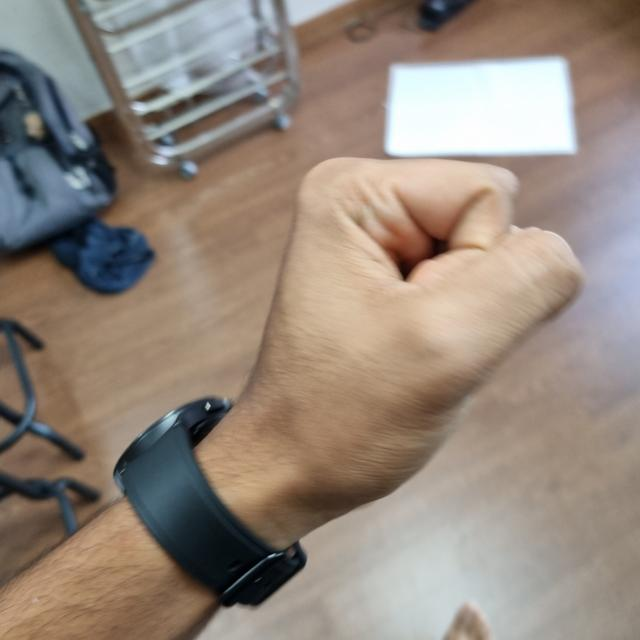Rock: (202, 160, 570, 544)
